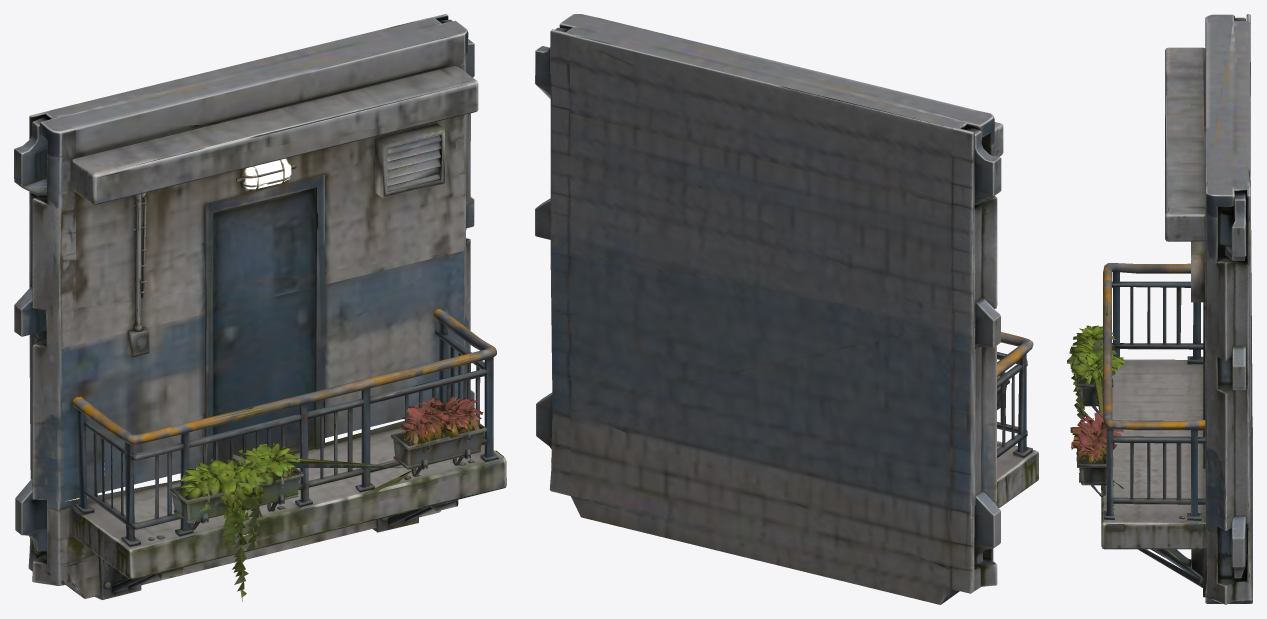
File: balcony.glb
3 views of the same model, side by side, from view 1: azimuth 30°, elevation 25°; view 2: azimuth 150°, elevation 25°; view 3: azimuth 270°, elevation 25° (orthographic). The views are drawn at different scales.
Visible parts, largest first — view 1: balcony; view 2: balcony; view 3: balcony.
Part boxes in pixels (bbox=[...]): balcony: bbox=[14, 14, 506, 601]; balcony: bbox=[535, 14, 1038, 604]; balcony: bbox=[1067, 14, 1252, 604].
Size of the model in its own units: 3.6 by 3.62 by 1.43.
1 material, 1 textured.
